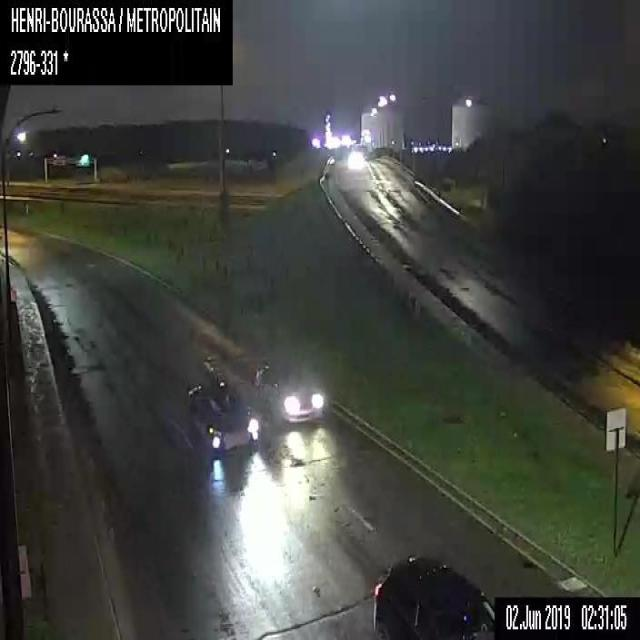vehicle: (372, 550, 493, 638), (185, 375, 257, 449), (253, 359, 324, 420)
